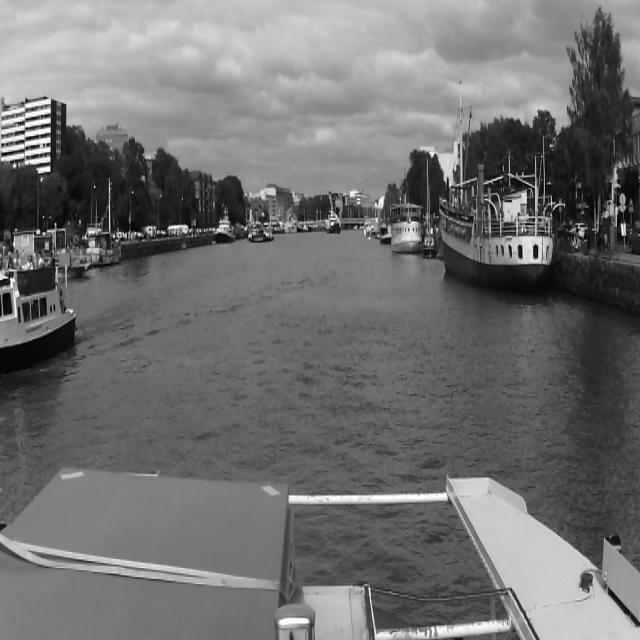ship: (441, 89, 553, 305), (0, 252, 77, 374), (76, 174, 128, 268), (2, 242, 94, 287), (389, 190, 423, 257), (422, 157, 439, 263), (213, 201, 237, 245), (325, 202, 343, 235), (246, 228, 274, 244), (284, 218, 296, 234)
